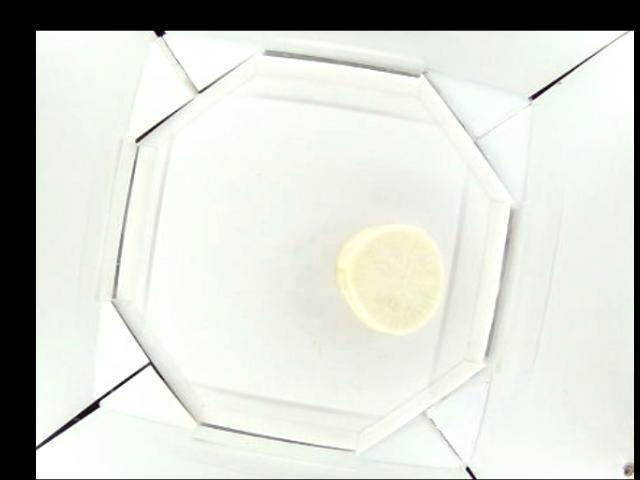Mooli: (335, 226, 445, 332)
